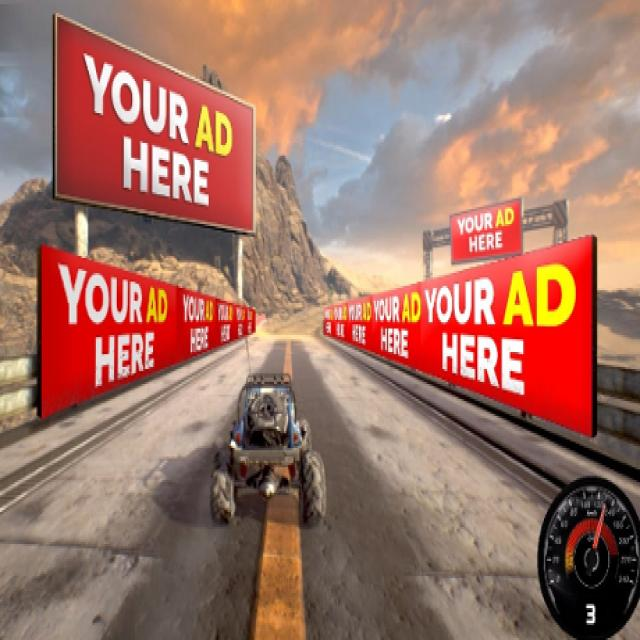billboard: (323, 240, 591, 438), (56, 15, 255, 233), (40, 246, 256, 421), (449, 198, 522, 263)
